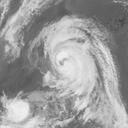cyclone: (42, 16, 107, 94), (6, 99, 29, 124)
